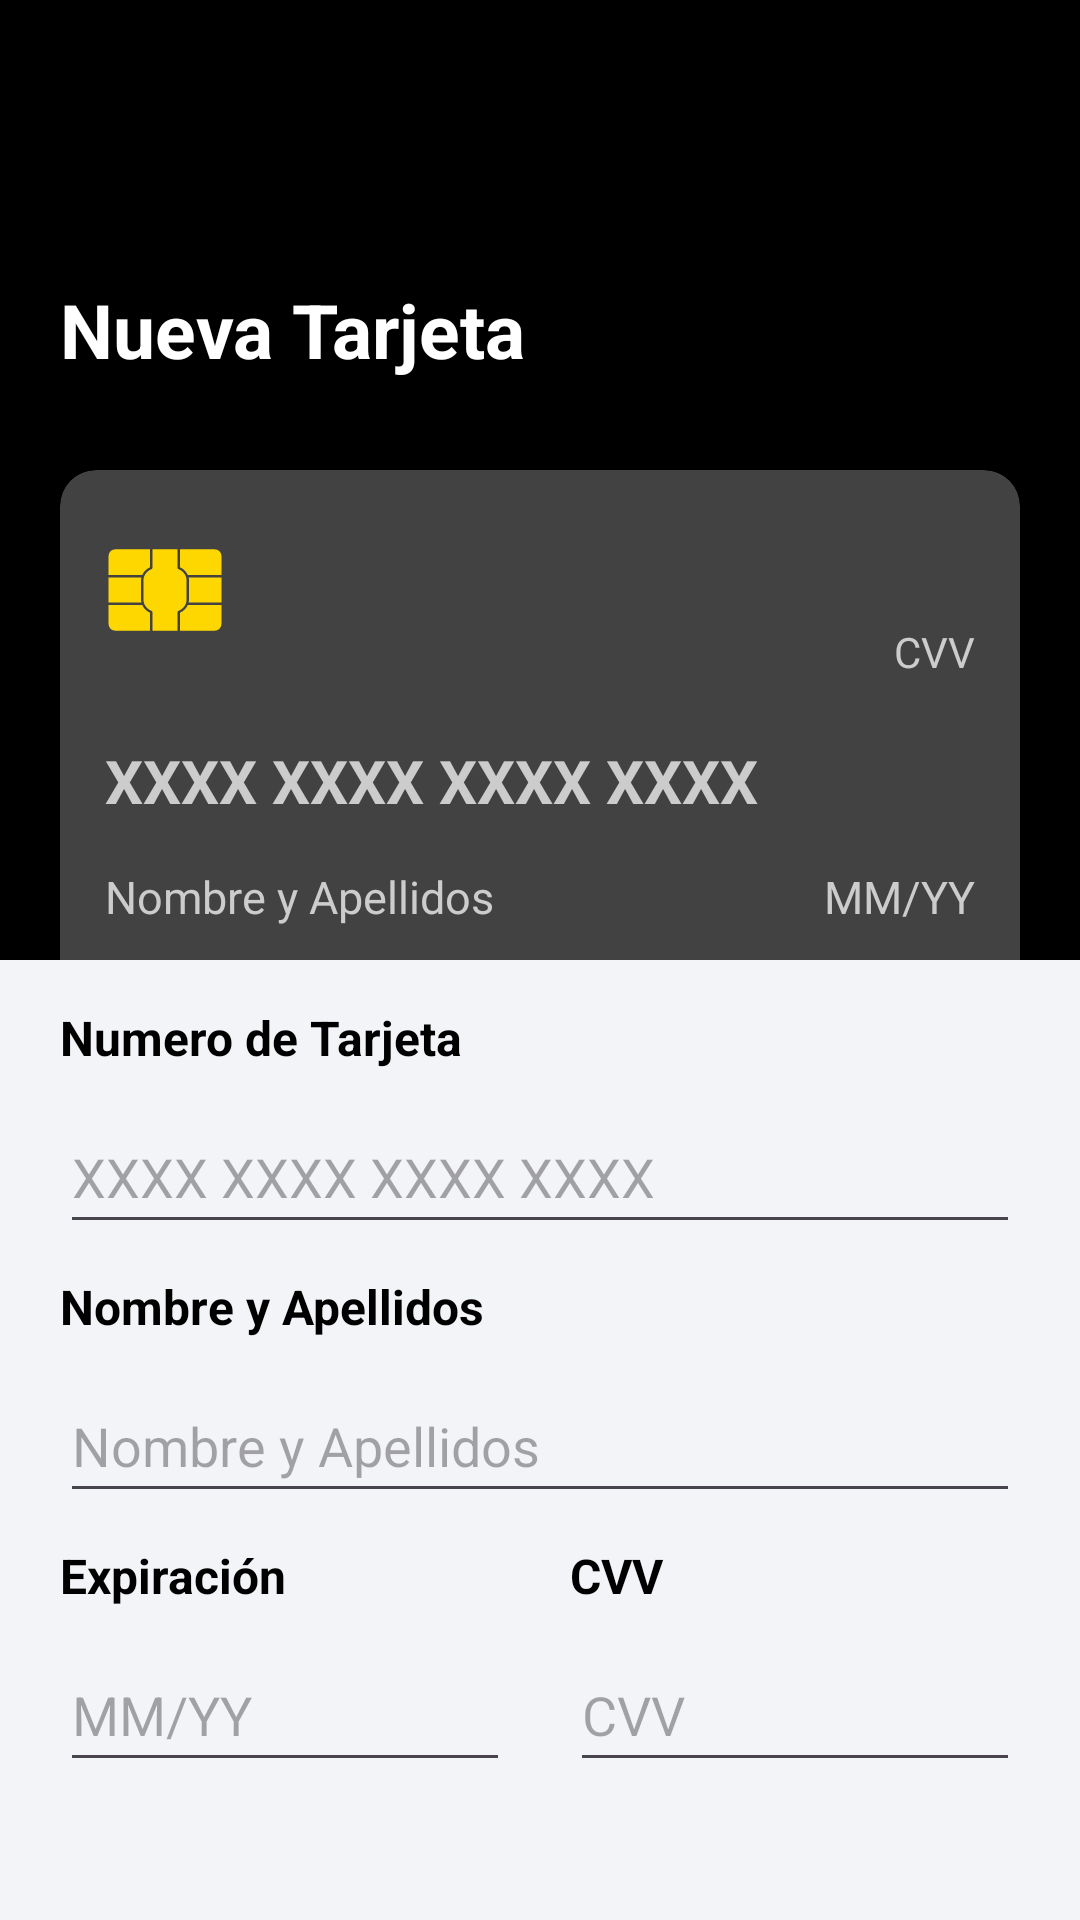

Icons on this 1080 x 1920 Android screen, each with the point to tap as (x=x, y=y):
chip card: (x=165, y=590)
